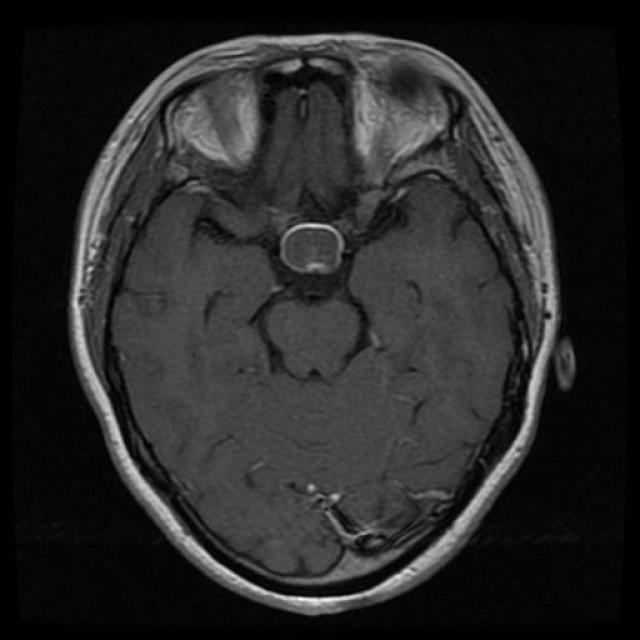pituitary: (276, 214, 356, 281)
